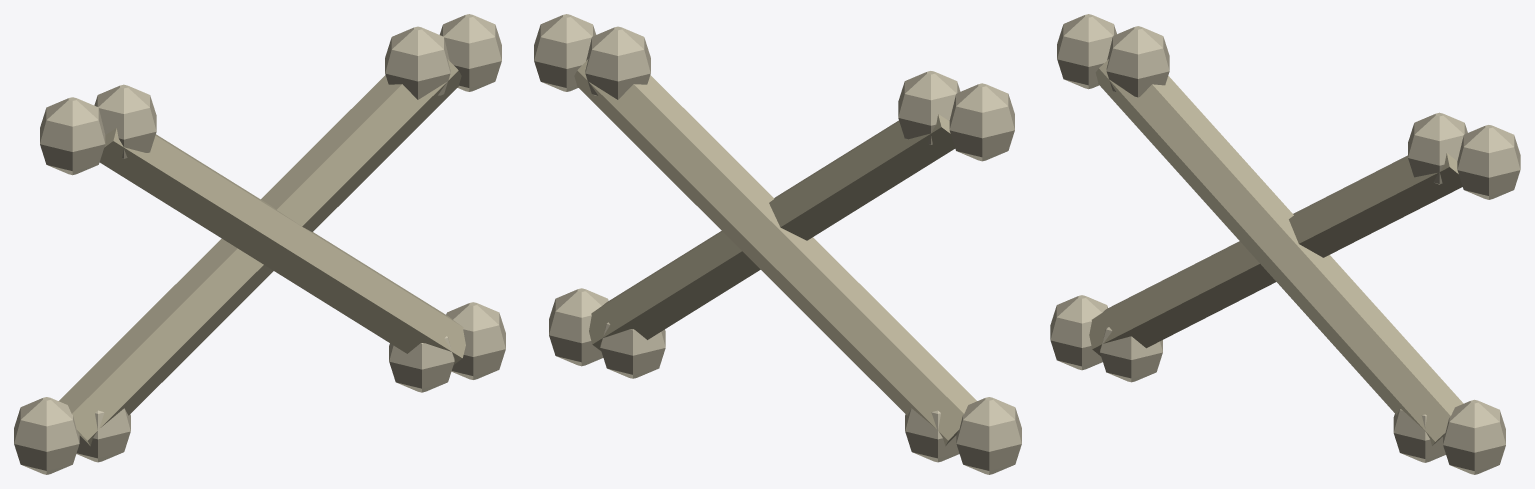
The model's file is bones.glb.
3 views of the same model, side by side, from view 1: azimuth 30°, elevation 25°; view 2: azimuth 150°, elevation 25°; view 3: azimuth 330°, elevation 25° (orthographic). The views are drawn at different scales.
Visible parts, largest first — view 1: bones; view 2: bones; view 3: bones.
Part boxes in pixels (x1,y1,x2,y2): bones: (14, 14, 505, 474); bones: (534, 14, 1021, 474); bones: (1050, 14, 1520, 474).
Size of the model in its own units: 1 by 0.7383 by 0.1498.
